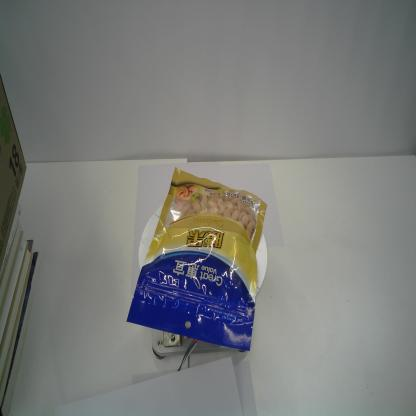Dried Fruit: (125, 166, 268, 352)
